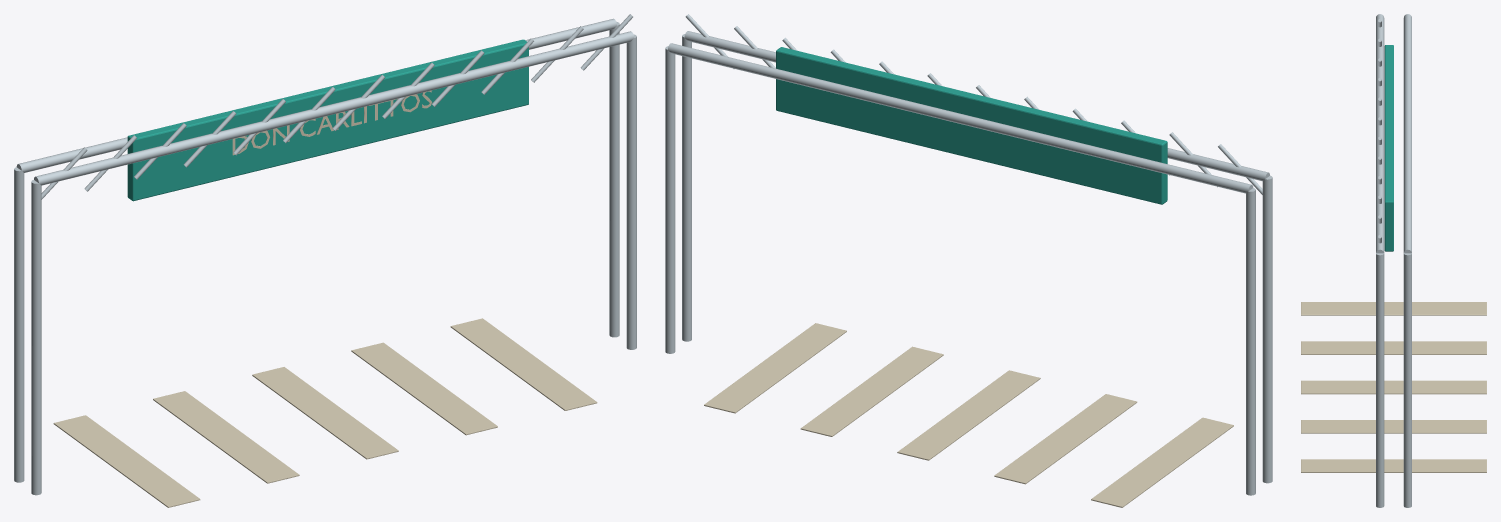
Rendered from runway-gate.glb.
The picture shows the model from 3 angles, left to right: view 1: azimuth 30°, elevation 25°; view 2: azimuth 150°, elevation 25°; view 3: azimuth 270°, elevation 25°; orthographic projection. The views are drawn at different scales.
Visible parts, largest first — view 1: DC_Mesh_DC_Silver, DC_Mesh_DC_Ivory, DC_Mesh_DC_Teal; view 2: DC_Mesh_DC_Silver, DC_Mesh_DC_Teal, DC_Mesh_DC_Ivory; view 3: DC_Mesh_DC_Ivory, DC_Mesh_DC_Silver, DC_Mesh_DC_Teal.
Boxes of the visible parts, x1,y1,x2,y2 form: DC_Mesh_DC_Silver: [14, 14, 636, 495]; DC_Mesh_DC_Ivory: [53, 90, 597, 507]; DC_Mesh_DC_Teal: [127, 39, 528, 201]; DC_Mesh_DC_Silver: [665, 14, 1272, 495]; DC_Mesh_DC_Teal: [776, 47, 1167, 204]; DC_Mesh_DC_Ivory: [704, 323, 1233, 507]; DC_Mesh_DC_Ivory: [1301, 302, 1486, 472]; DC_Mesh_DC_Silver: [1376, 14, 1411, 507]; DC_Mesh_DC_Teal: [1384, 45, 1393, 251].
Size of the model in its own units: 12.18 by 6.43 by 4.
